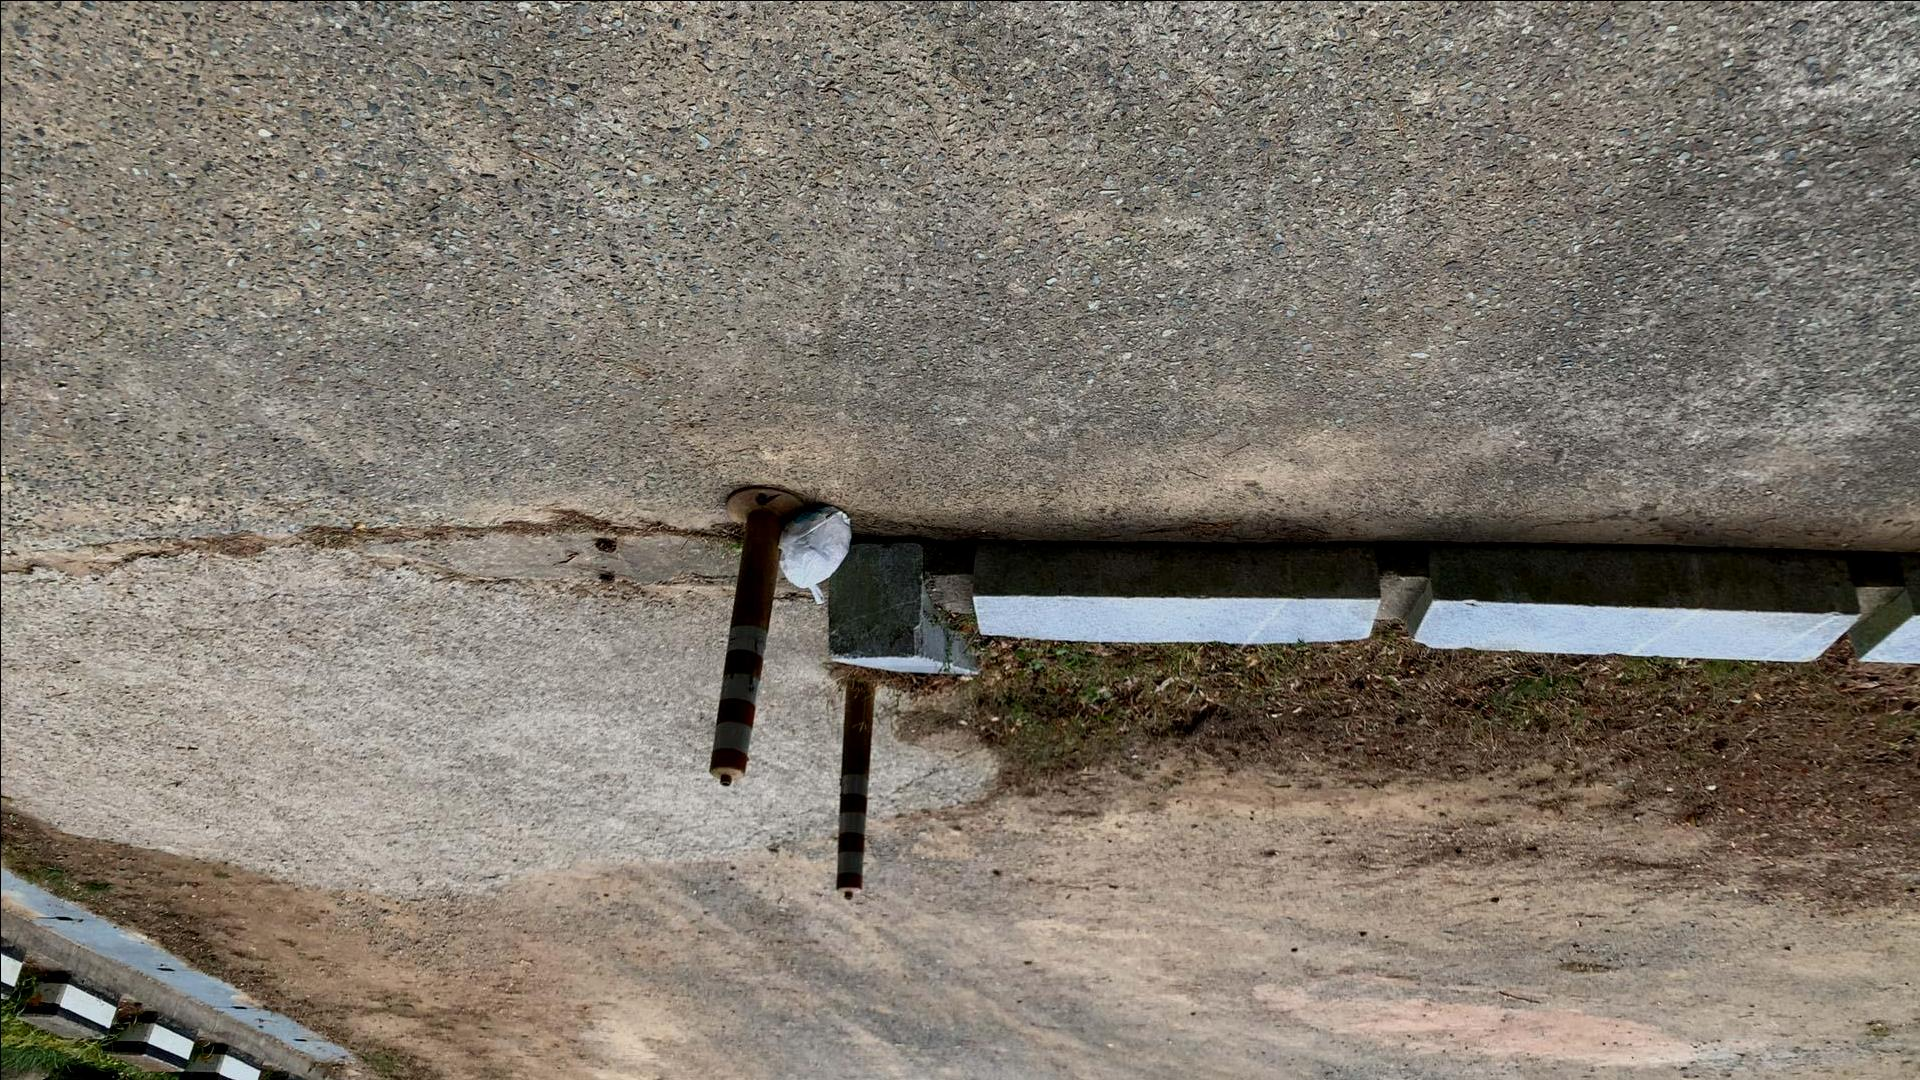white_bag: (771, 498, 861, 608)
